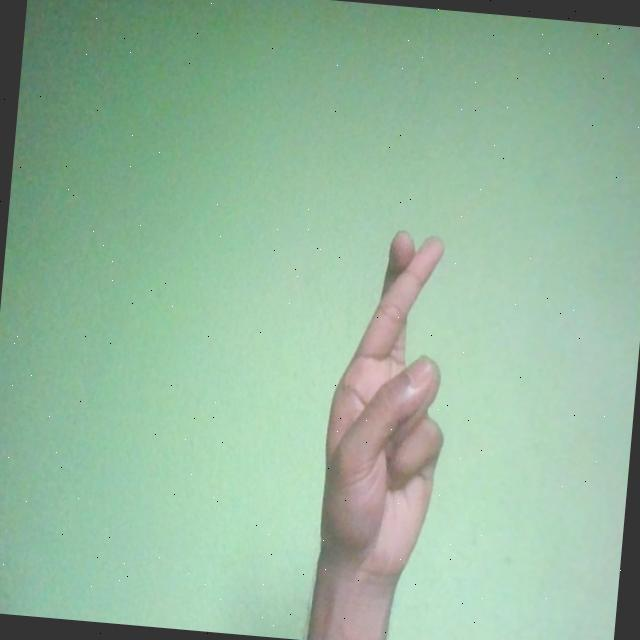Ok: (312, 224, 462, 594)
